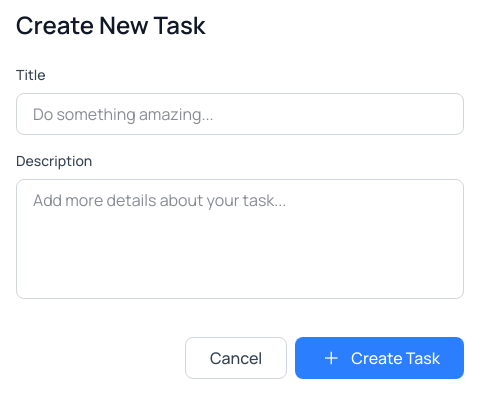
NewTask Component › field validation › clears title error when valid title entered
Type "ab" into the field named "title" at x=240, y=114, box [16,93,464,135]
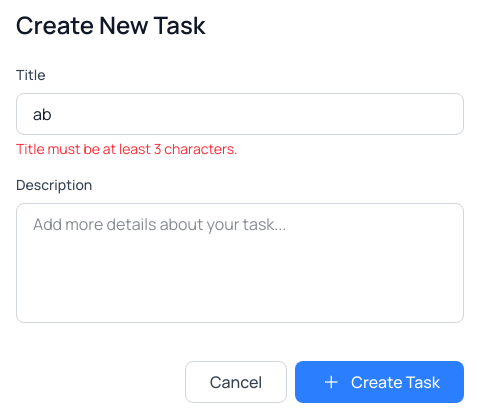
Now the text "at least 3 characters" is shown, box [16,139,238,158]
Replace the text in the field named "title" with "Valid Title" at x=240, y=114, box [16,93,464,135]
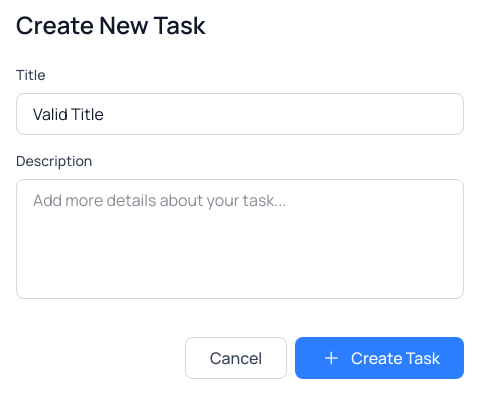
Now the text "at least 3 characters" is gone
